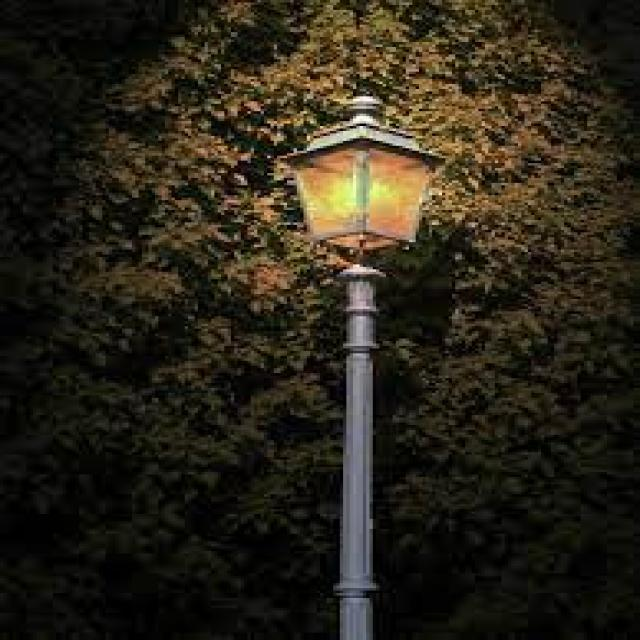Street Light: (280, 94, 446, 640)
